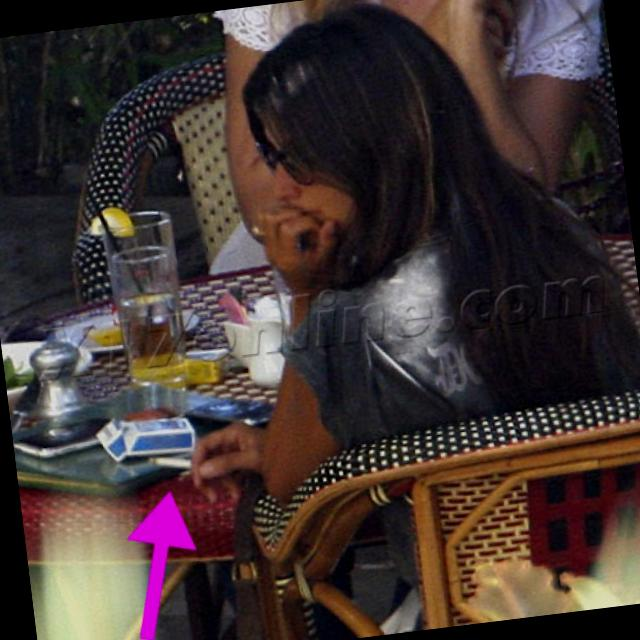smoke: (146, 452, 192, 471)
